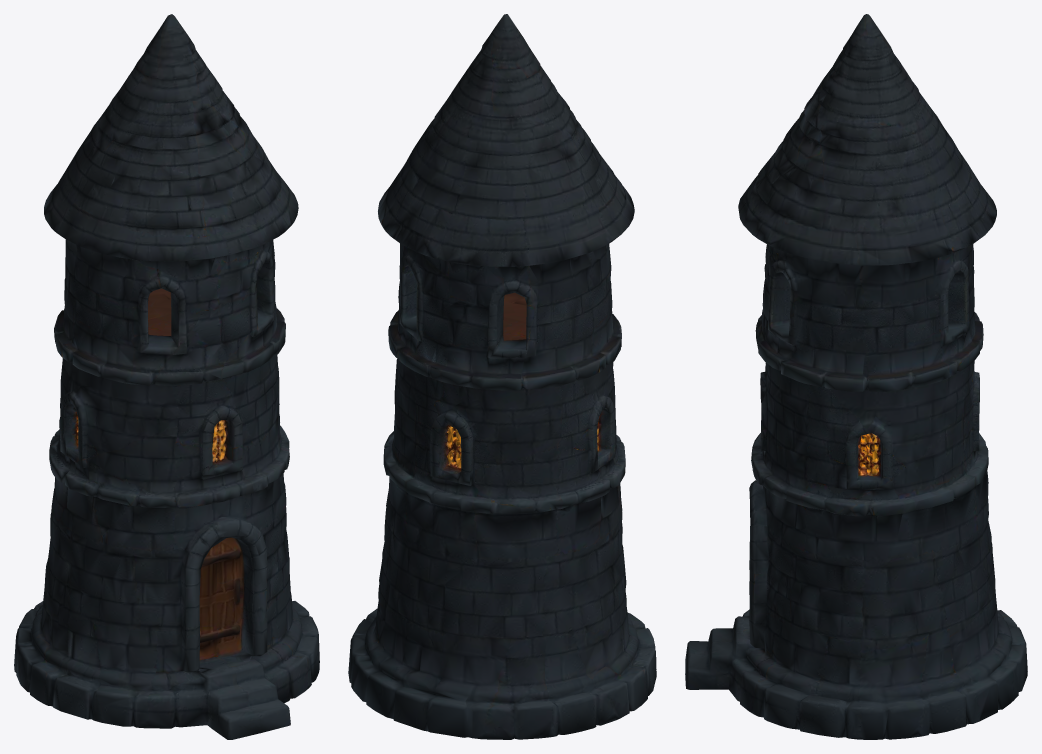
Rendered from round-tower.glb.
3 renders of one model, left to right at view 1: azimuth 30°, elevation 25°; view 2: azimuth 150°, elevation 25°; view 3: azimuth 270°, elevation 25°, orthographic.
Size of the model in its own units: 0.8154 by 1.9 by 0.8943.
Materials: 1 (1 with a texture image).
